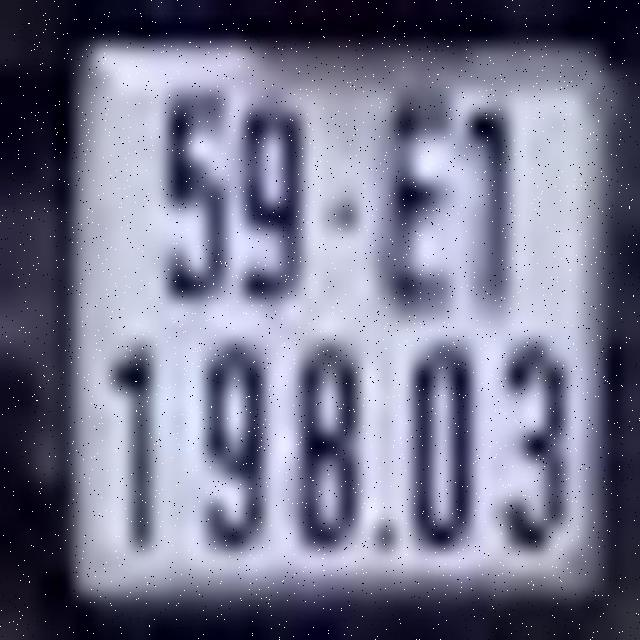0: (409, 339, 475, 550)
1: (109, 343, 160, 551), (465, 102, 515, 312)
3: (499, 335, 571, 553)
5: (162, 88, 230, 302)
8: (296, 341, 362, 550)
9: (200, 339, 267, 550), (240, 103, 305, 303)
E: (383, 93, 457, 312)
